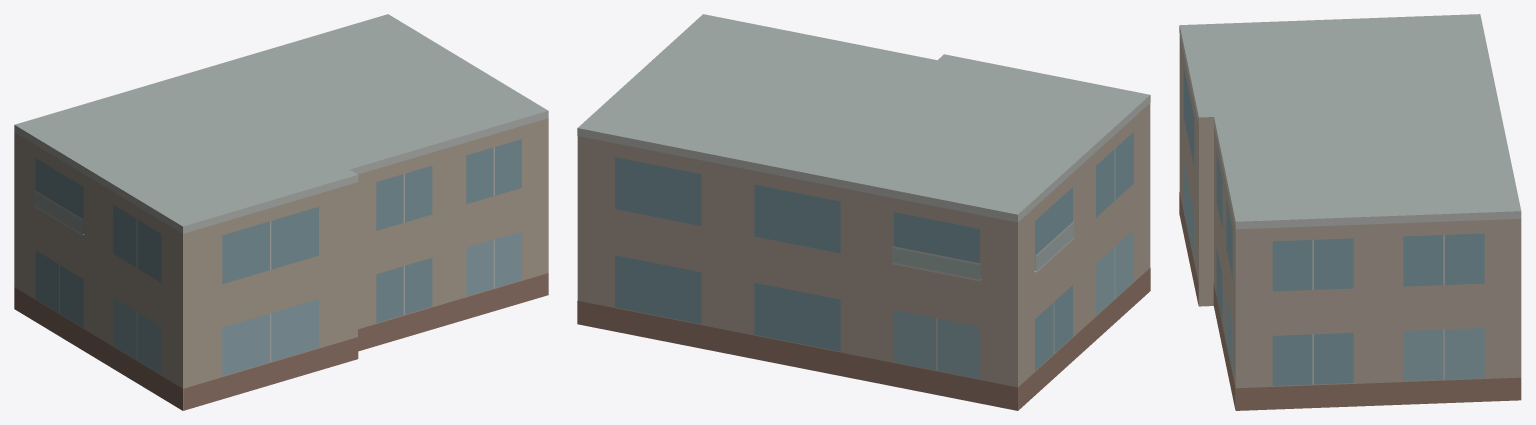
Rendered from survey-upis-33036763.glb.
3 views of the same model, side by side, from view 1: azimuth 30°, elevation 25°; view 2: azimuth 150°, elevation 25°; view 3: azimuth 270°, elevation 25° (orthographic). The views are drawn at different scales.
Visible parts, largest first — view 1: survey-upis-33036763.tmp; view 2: survey-upis-33036763.tmp; view 3: survey-upis-33036763.tmp.
Part boxes in pixels (x1,y1,x2,y2): survey-upis-33036763.tmp: (14,14,548,410); survey-upis-33036763.tmp: (577,14,1150,410); survey-upis-33036763.tmp: (1179,14,1521,410).
Bounding box in the file's own units: 14.39 × 6.1 × 10.01.
